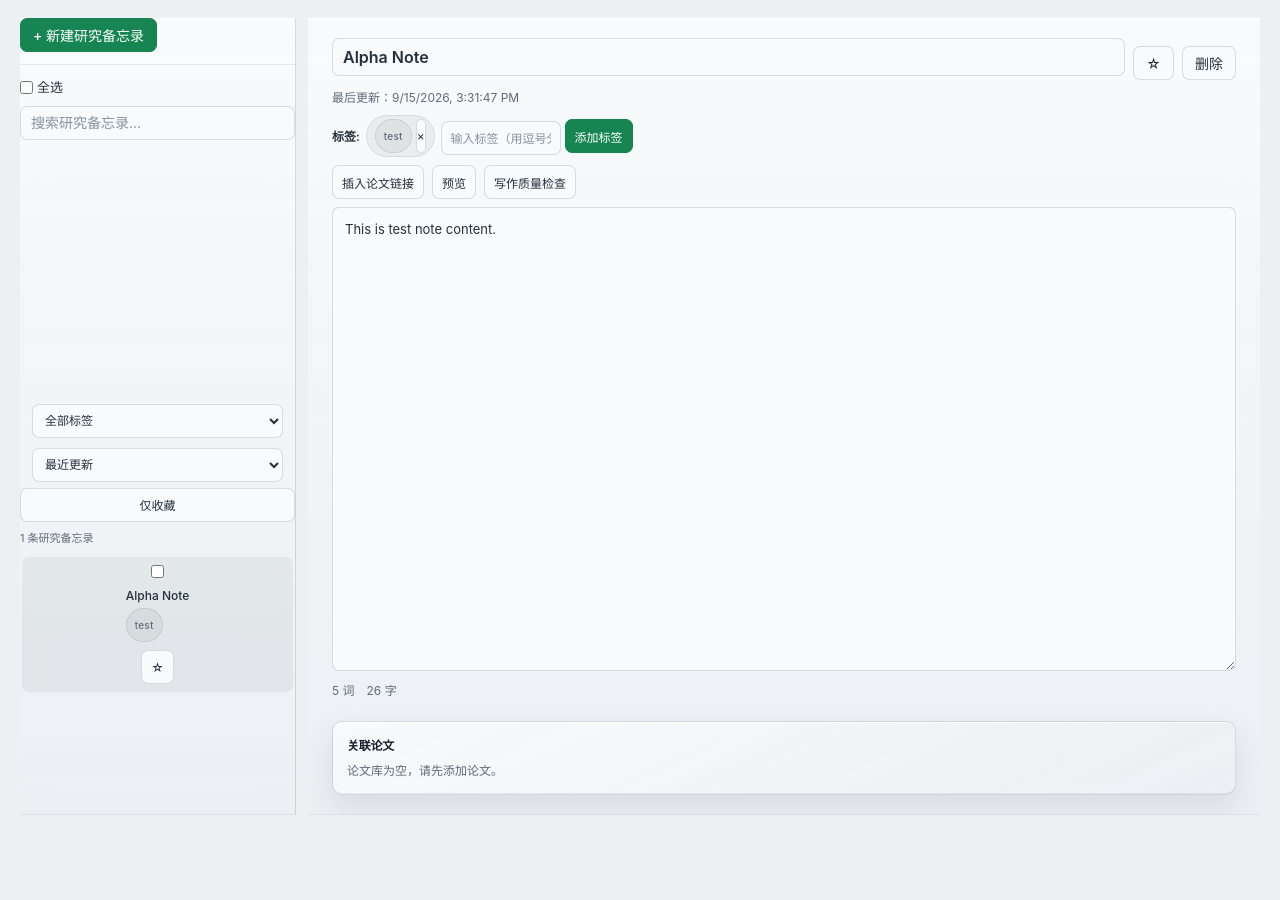
Test case: NotesPage › should clear the notes search filter from the empty state
The width and height of the screenshot is (1280, 900).
Step 1. Type "ZZZ" into the field with placeholder "搜索研究备忘录..." → (158, 123), box [20,106,295,140]
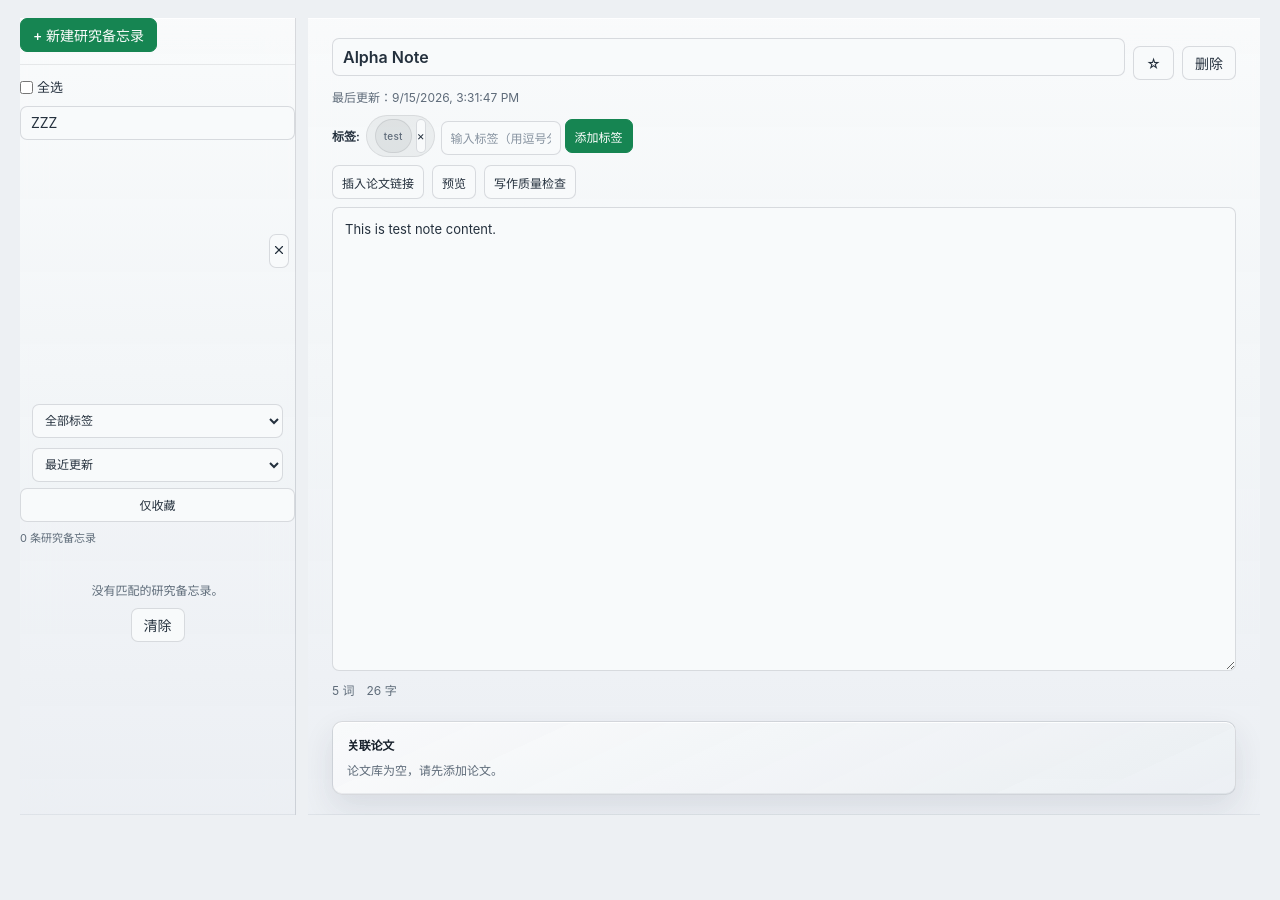
Now the text "没有匹配的研究备忘录。" is shown, box [92,583,224,598]
Step 2. Click the button "清除" → (158, 625), box [130,608,184,642]
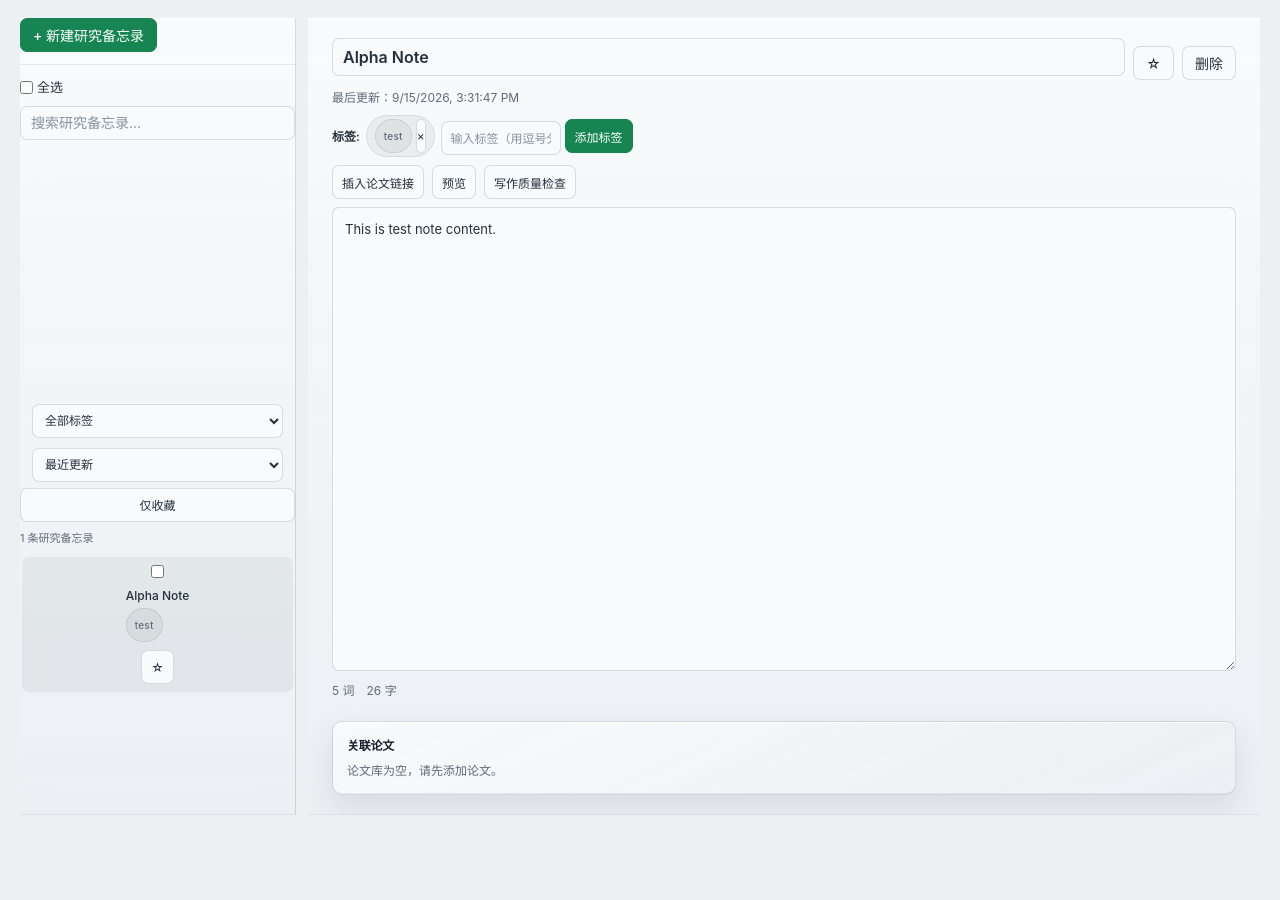
Now the field with placeholder "搜索研究备忘录..." is empty, box [20,106,295,140]
Now the text "Alpha Note" is shown, box [126,586,189,605]
